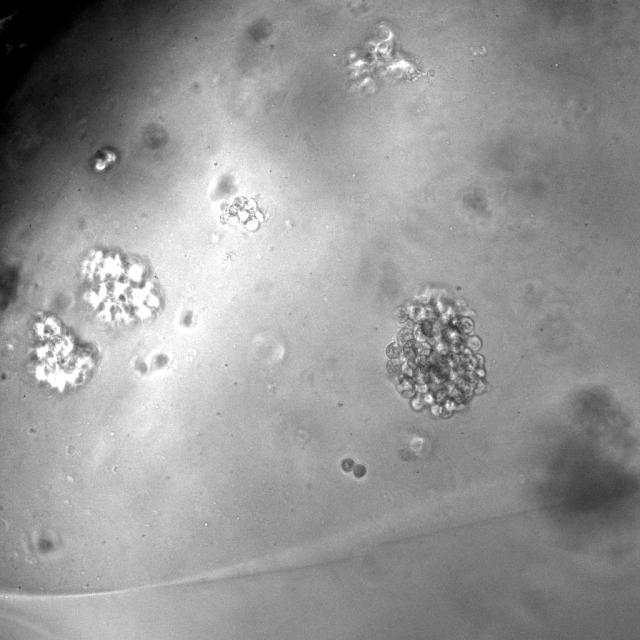organoid: (386, 289, 485, 418), (80, 247, 162, 324), (29, 312, 98, 393), (347, 23, 424, 91), (219, 196, 264, 231), (91, 146, 119, 173), (340, 457, 366, 479)
